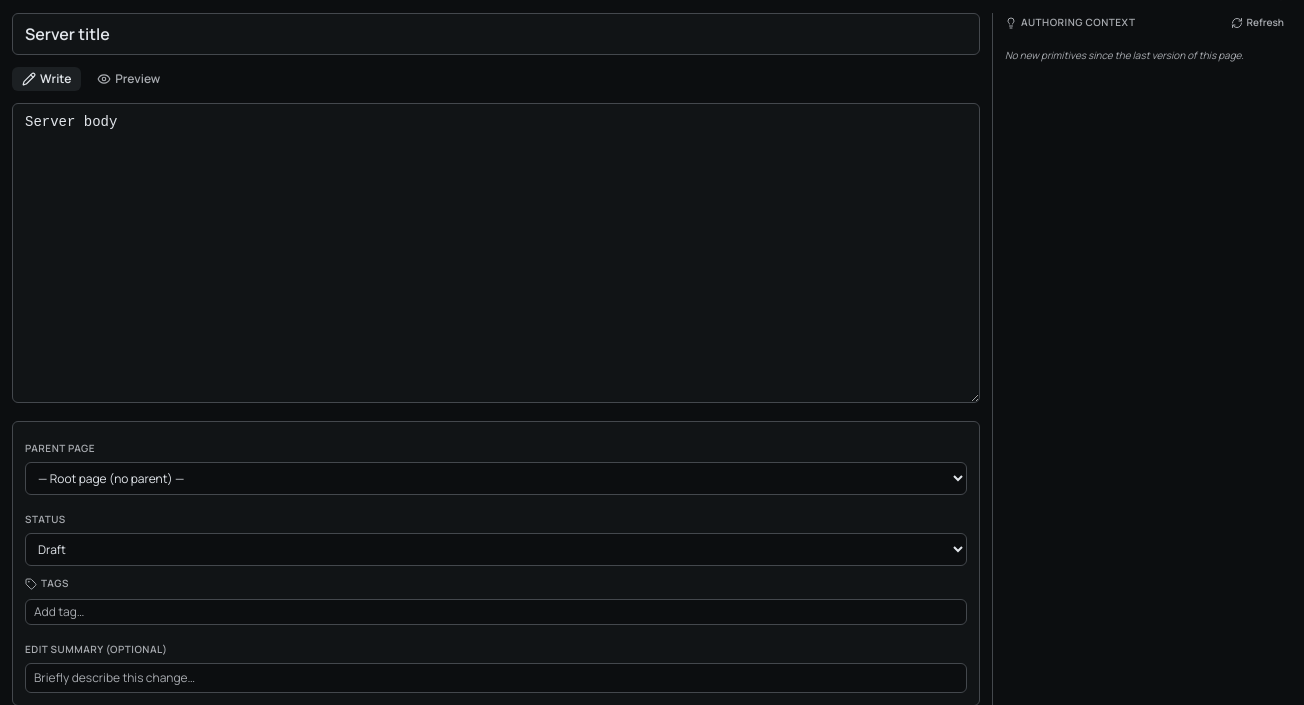
Test: WikiEditor draft lifecycle › keeps metadata typed after submission even when a refetch observes the pending write
The image size is (1304, 705).
Expected: the text box showing "Server body" is shown, x1=12 y1=103 x2=980 y2=403
Select "Published" in the dropdown labelled "Status" at (496, 550), box x1=25 y1=533 x2=967 y2=566
(page scrolled)
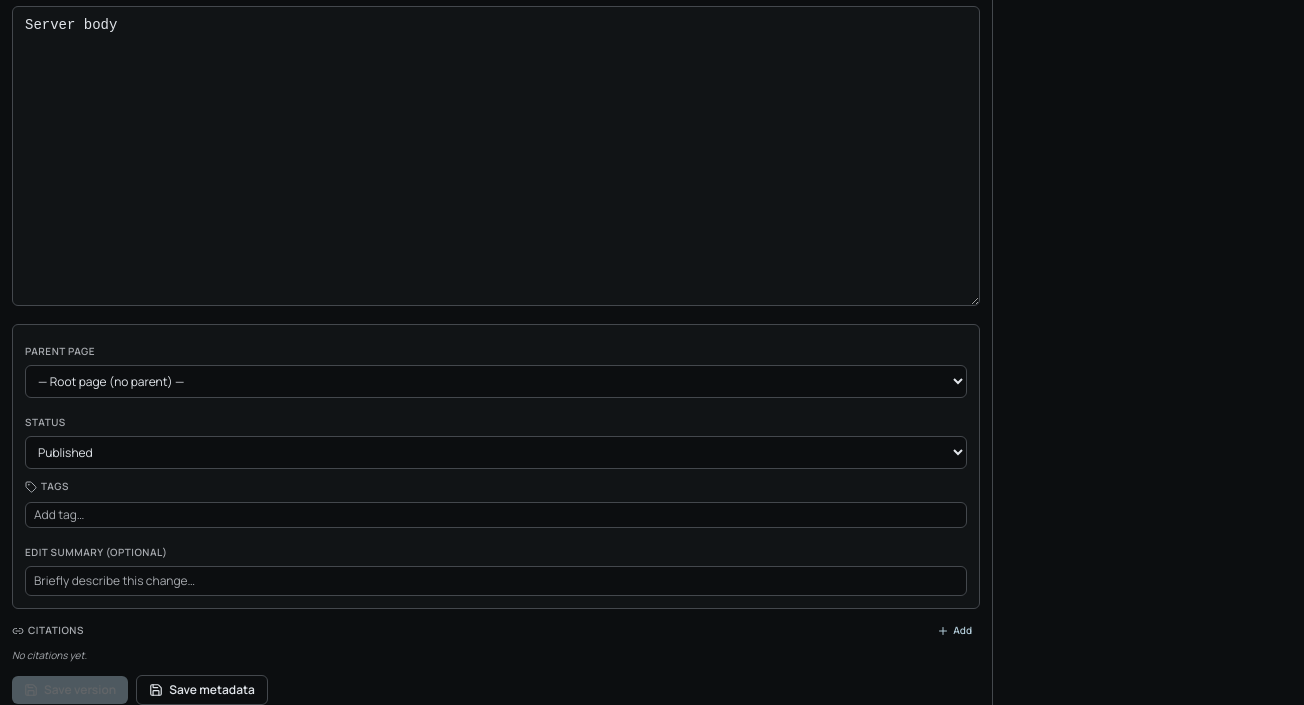
Click the button "Save metadata" at (202, 690), box x1=136 y1=675 x2=268 y2=704
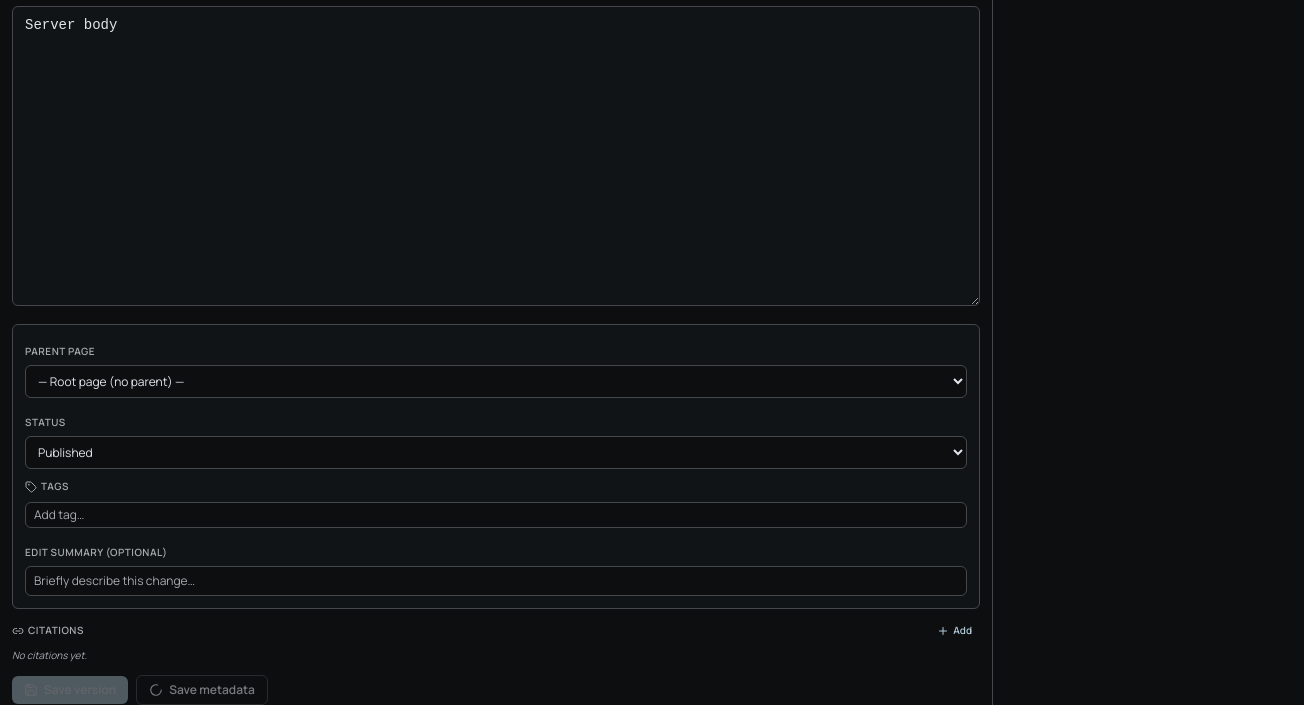
Select "Draft" in the dropdown labelled "Status" at (496, 452), box x1=25 y1=436 x2=967 y2=469
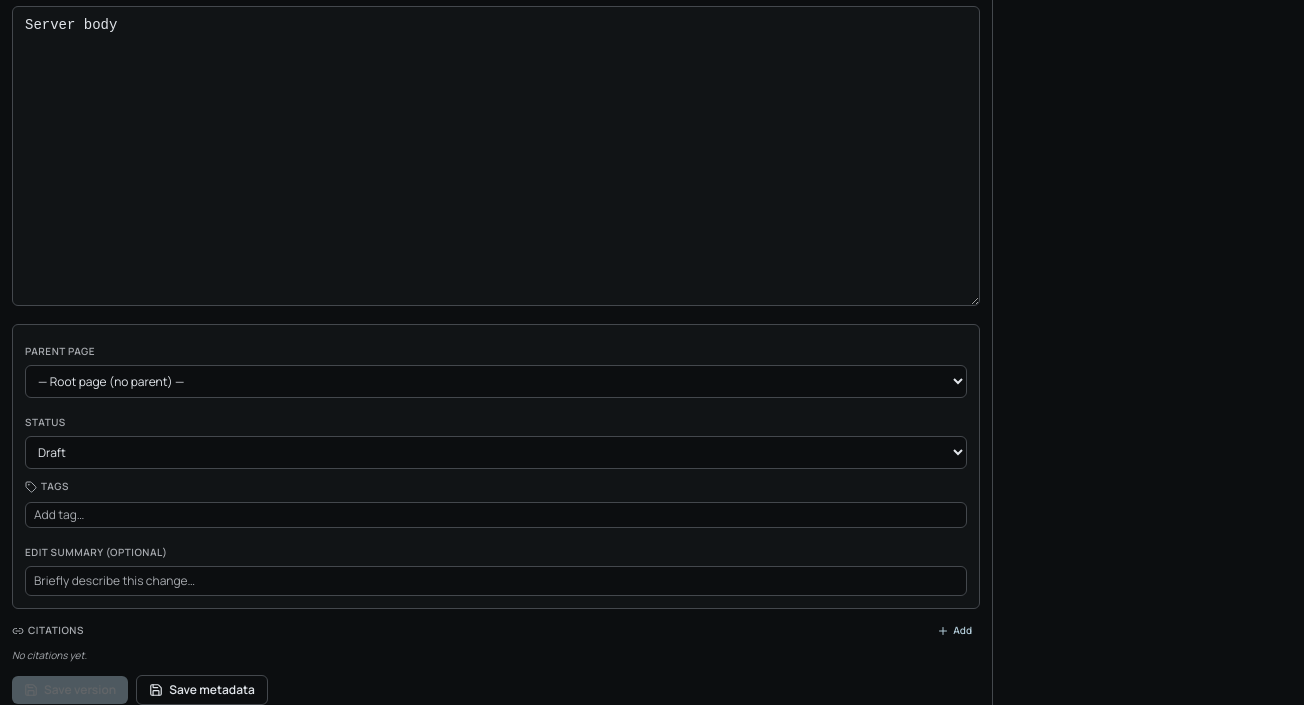
Result: the button "Save metadata" is enabled
Click the button "Save metadata" at (202, 690), box x1=136 y1=675 x2=268 y2=704
(page scrolled)
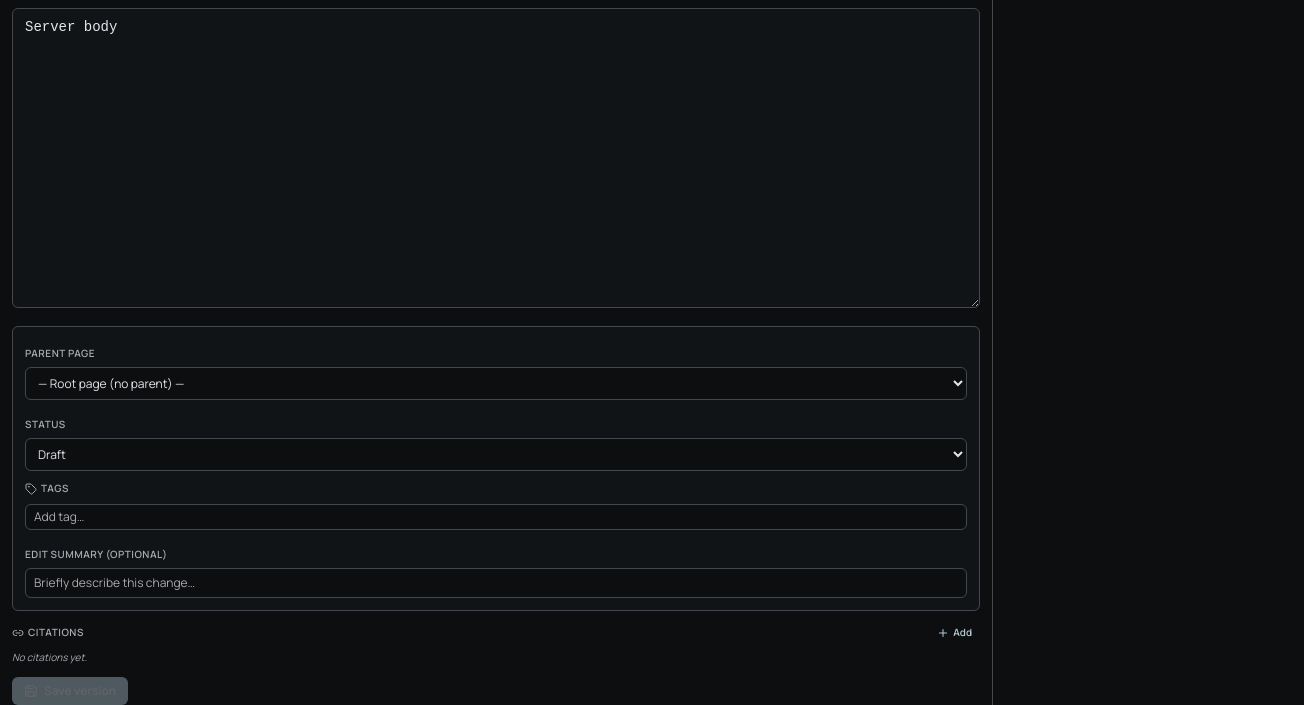
Result: the button "Save metadata" is gone
